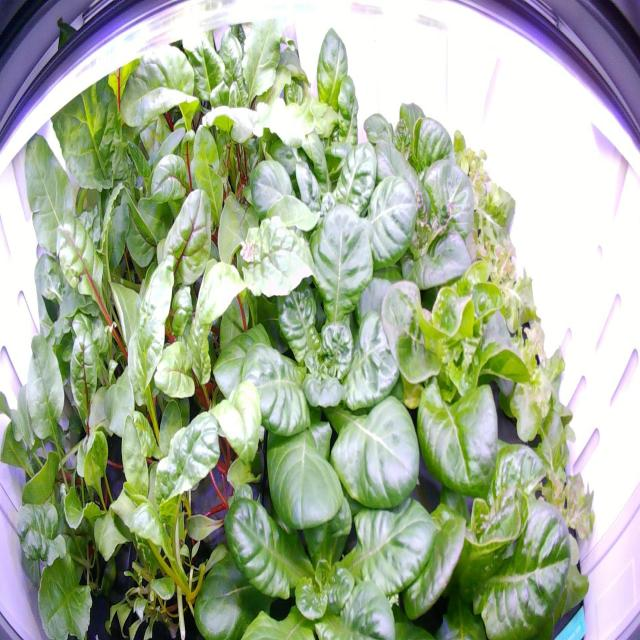Ready: (378, 401, 597, 637), (357, 236, 540, 507), (345, 145, 491, 314), (348, 87, 466, 236)
young: (208, 202, 430, 546), (181, 390, 439, 638), (236, 111, 423, 315), (245, 18, 381, 216)
